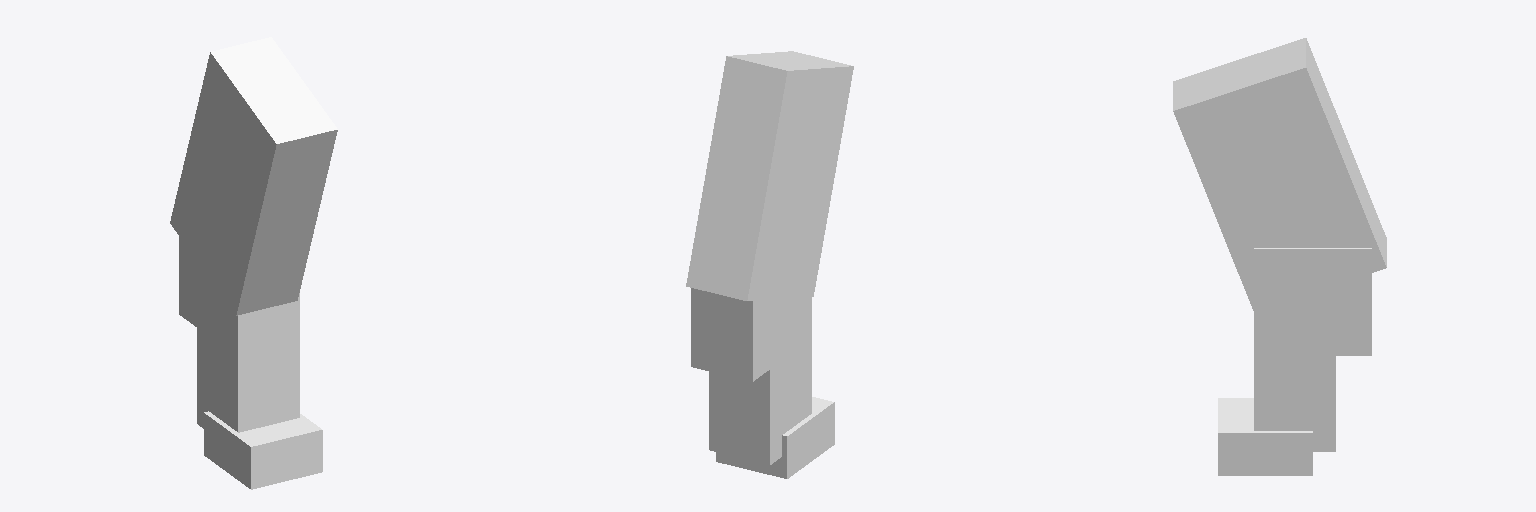
File: lion_front_right_leg.obj
The picture shows the model from 3 angles: view 1: azimuth 30°, elevation 25°; view 2: azimuth 150°, elevation 25°; view 3: azimuth 270°, elevation 25°; orthographic projection.
Parts seen in each view (by area): view 1: Element #13, Element #11, Element #10, Element #12; view 2: Element #13, Element #11, Element #12, Element #10; view 3: Element #13, Element #12, Element #11, Element #10.
Part boxes in pixels (x1,y1,x2,y2): Element #13: (170,37,337,315); Element #11: (197,285,299,432); Element #10: (204,411,322,489); Element #12: (179,237,299,356); Element #13: (686,51,853,300); Element #11: (709,297,811,464); Element #12: (691,288,811,381); Element #10: (716,397,834,478); Element #13: (1173,38,1386,310); Element #12: (1254,248,1371,355); Element #11: (1254,327,1335,451); Element #10: (1218,398,1312,475).
Size of the model in its own units: 3.5 by 18.95 by 9.06.